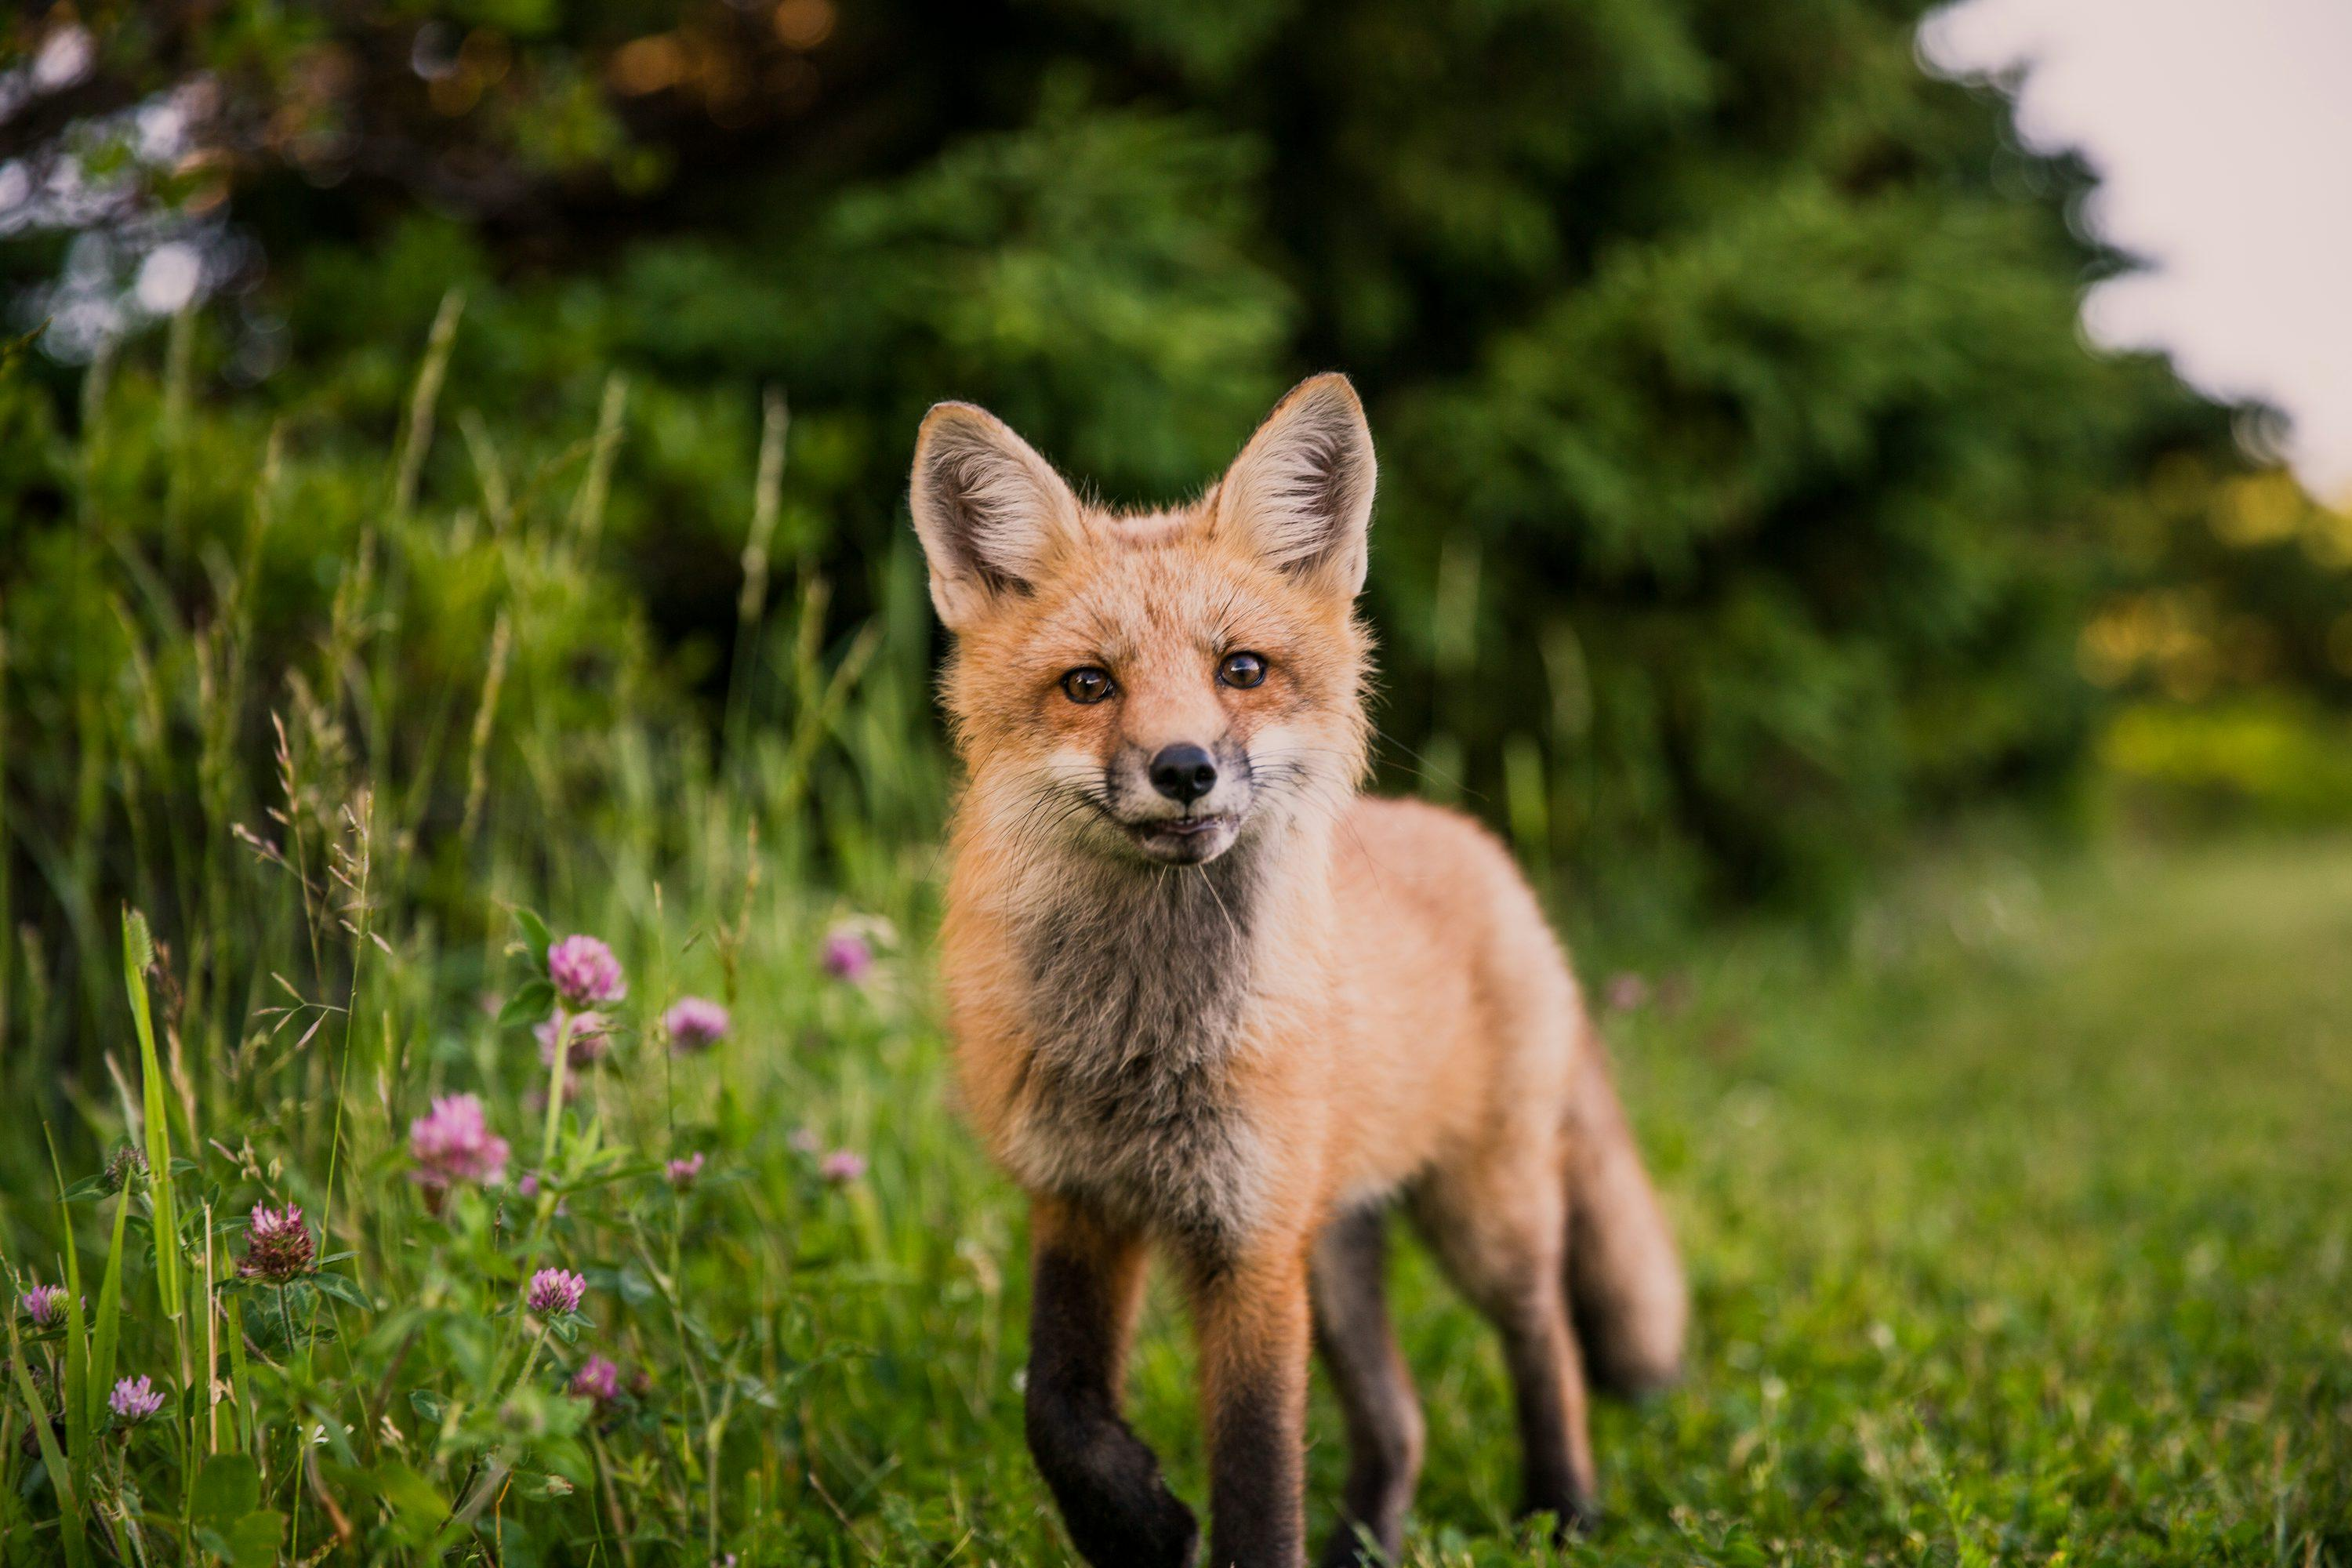fox: (891, 364, 1711, 1561)
